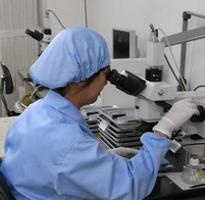person without safety: (4, 26, 131, 160)
